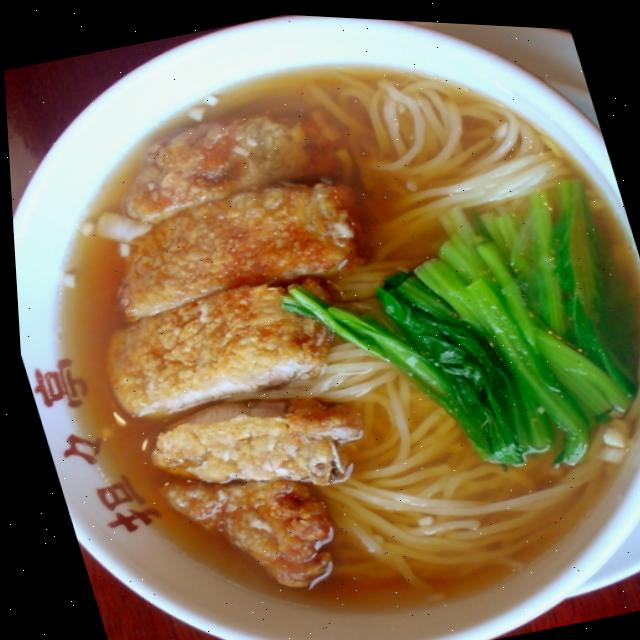牛肉菜式: (51, 2, 593, 640)
